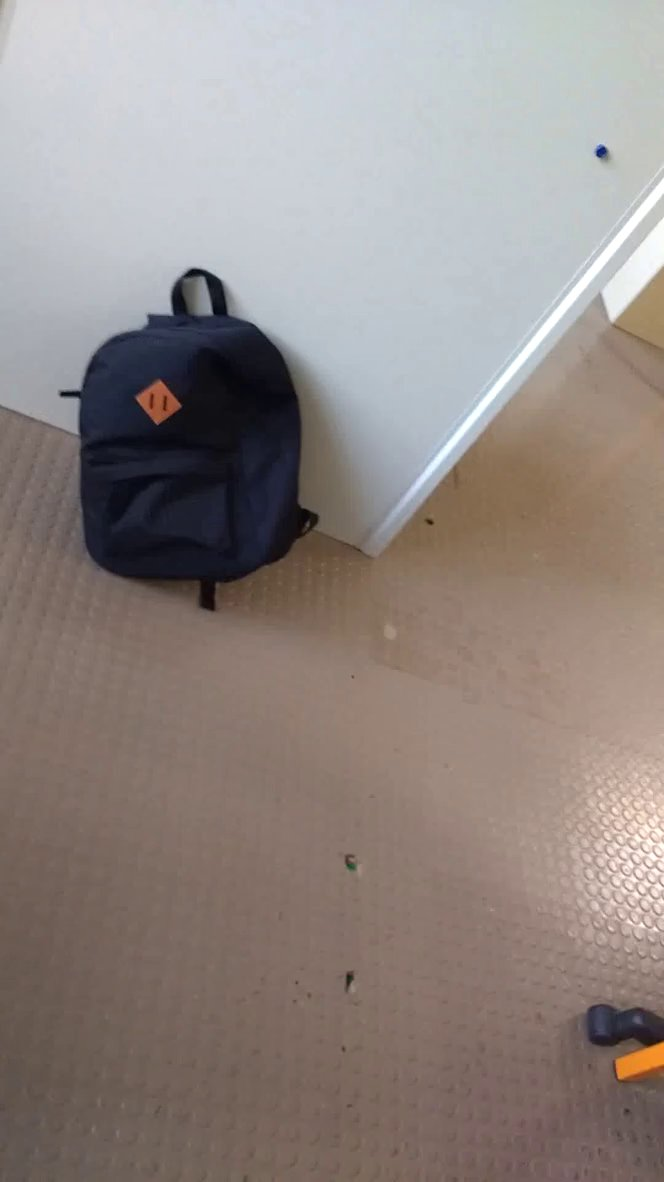bag: (57, 256, 336, 629)
